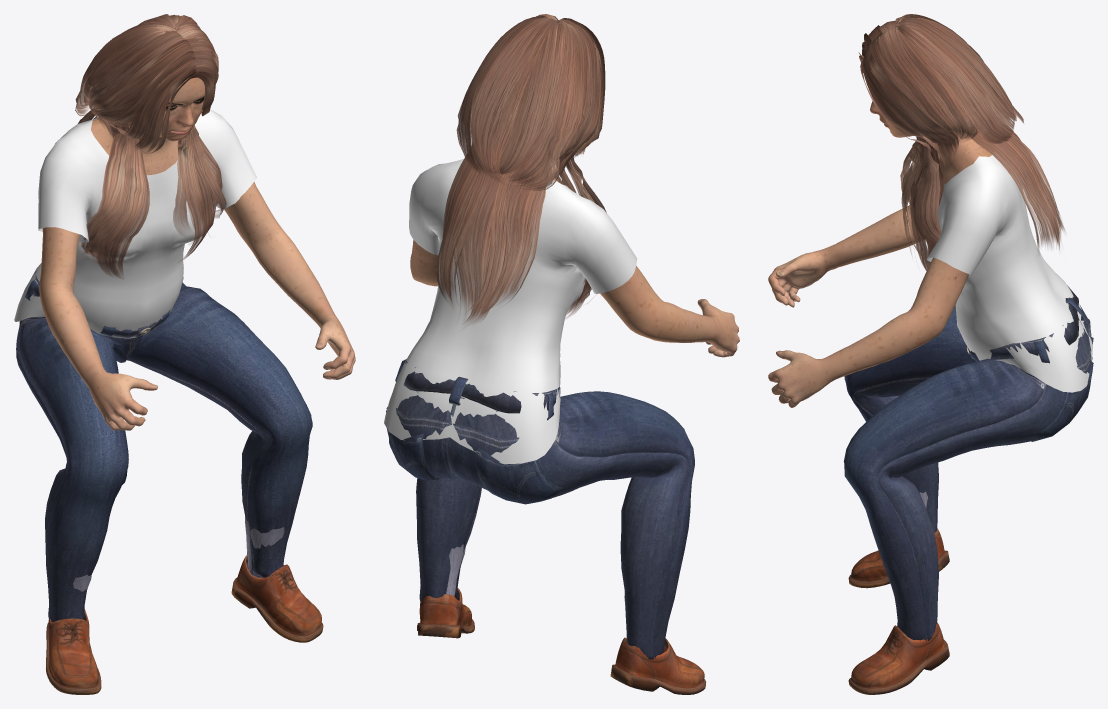
File: donna-05.glb
3 renders of one model, left to right at view 1: azimuth 30°, elevation 25°; view 2: azimuth 150°, elevation 25°; view 3: azimuth 270°, elevation 25°, orthographic. The views are drawn at different scales.
Parts seen in each view (by area): view 1: Human.punkduck_female_tight_jeans, Human.elvs_daisy_hair, Human.joepal_crude_t-shirt_female, Human, Human.shoes01; view 2: Human.punkduck_female_tight_jeans, Human.elvs_daisy_hair, Human.joepal_crude_t-shirt_female, Human, Human.shoes01; view 3: Human.punkduck_female_tight_jeans, Human.elvs_daisy_hair, Human.joepal_crude_t-shirt_female, Human, Human.shoes01.
Part boxes in pixels (<box>): Human.punkduck_female_tight_jeans: <box>16,270,312,622</box>; Human.elvs_daisy_hair: <box>75,14,226,278</box>; Human.joepal_crude_t-shirt_female: <box>14,109,257,338</box>; Human: <box>39,32,355,430</box>; Human.shoes01: <box>46,516,323,694</box>; Human.punkduck_female_tight_jeans: <box>386,359,694,659</box>; Human.elvs_daisy_hair: <box>436,14,606,324</box>; Human.joepal_crude_t-shirt_female: <box>384,159,637,464</box>; Human: <box>410,79,739,357</box>; Human.shoes01: <box>417,544,706,694</box>; Human.punkduck_female_tight_jeans: <box>843,285,1093,640</box>; Human.elvs_daisy_hair: <box>858,14,1065,270</box>; Human.joepal_crude_t-shirt_female: <box>926,152,1092,392</box>; Human: <box>768,101,993,407</box>; Human.shoes01: <box>848,491,949,694</box>.
Size of the model in its own units: 0.5659 by 1.28 by 0.618.
Materials: 13 (13 with a texture image).
